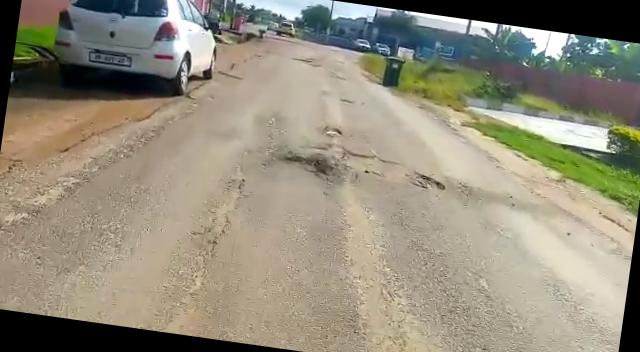pothole: (319, 144, 453, 194), (323, 124, 345, 138)
